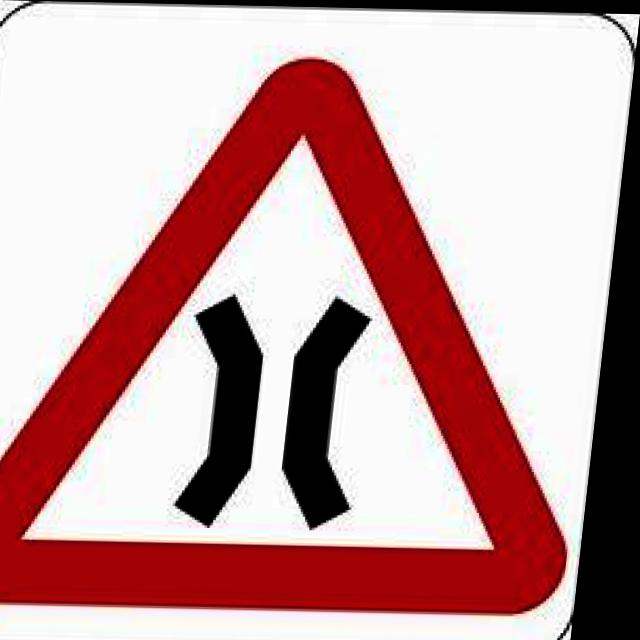NARROW_BRIDGE: (0, 50, 621, 614)
